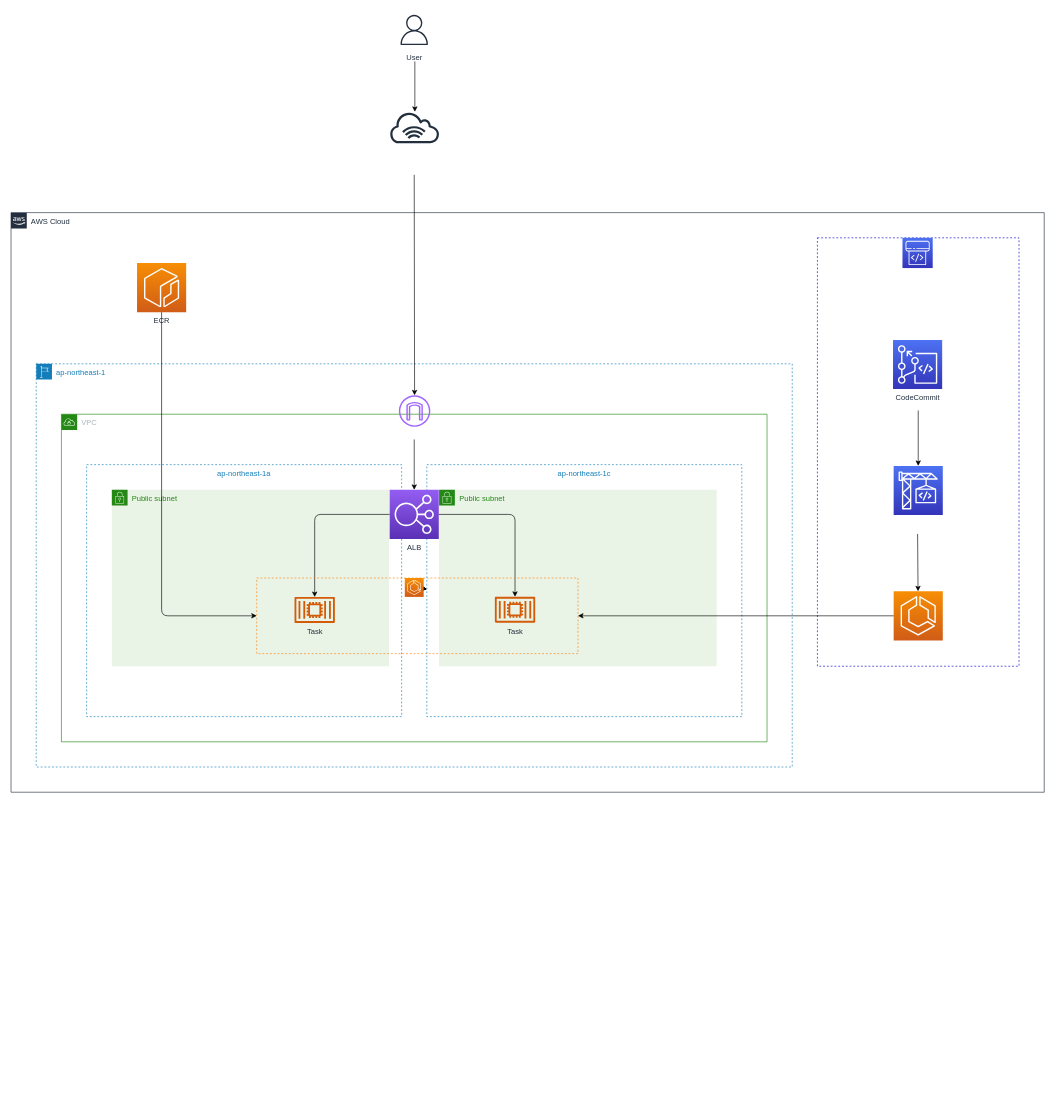
Image size: 1055x1111. Some labels were removed from this diagram. The centre of each missing label's shape, as x and y in pixels:
CodeBuild: the point at 918,490
CodePipeline: the point at 917,252
ECS: the point at 918,615
ECS Cluster: the point at 414,587
Internet: the point at 414,127
Internet Gateway: the point at 414,411
